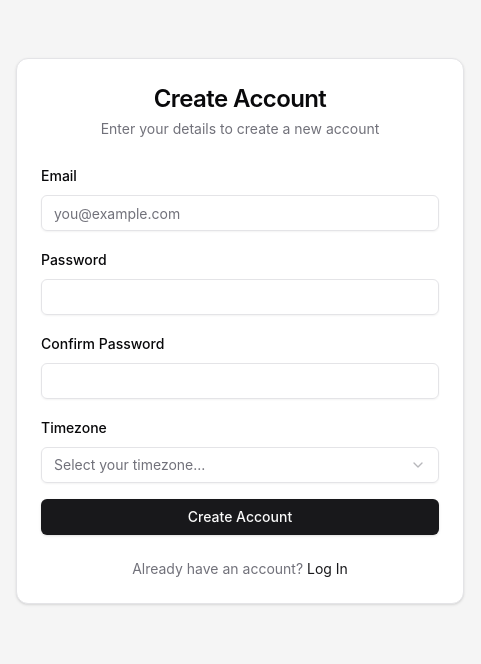
Test case: RegisterPage › should show validation error for password shorter than 8 characters
Type "test@example.com" into the field labelled "Email". click: (240, 213)
box: [41,195,439,231]
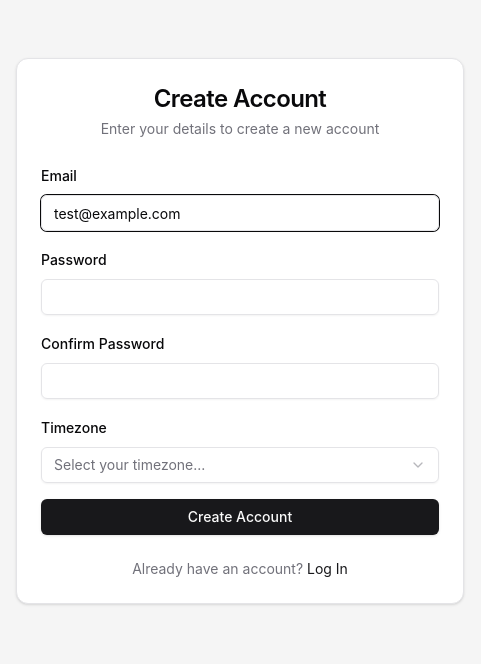
Type "short" into the password field labelled "Password". click: (240, 297)
box: [41,279,439,315]
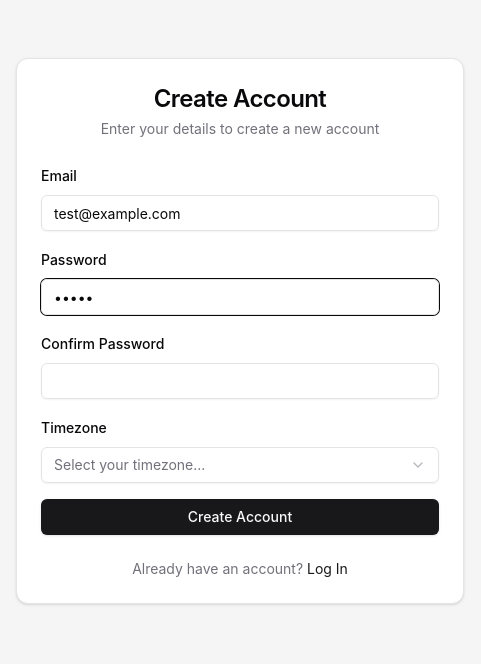
Click the button "Create Account". click: (240, 517)
box: [41,499,439,535]
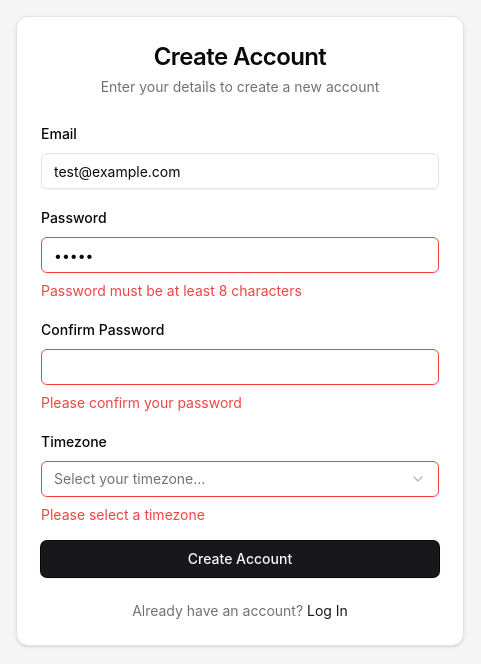
Now the text "Password must be at least 8 characters" is shown, box [41,282,302,299]
